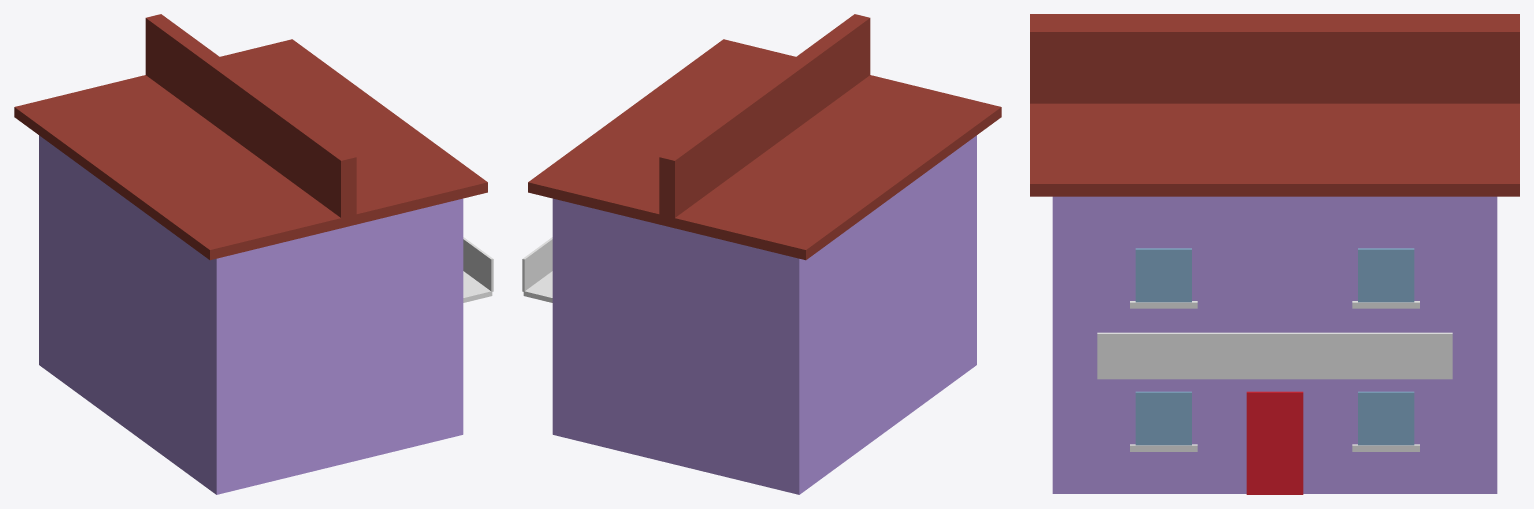
The model's file is casa_playa_5.obj.
The picture shows the model from 3 angles, left to right: view 1: azimuth 30°, elevation 25°; view 2: azimuth 150°, elevation 25°; view 3: azimuth 270°, elevation 25°; orthographic projection. The views are drawn at different scales.
Parts seen in each view (by area): view 1: casa_playa_5; view 2: casa_playa_5; view 3: casa_playa_5.
Boxes of the visible parts, left/top/right/bottom form: casa_playa_5: left=14, top=14, right=493, bottom=494; casa_playa_5: left=522, top=14, right=1001, bottom=494; casa_playa_5: left=1030, top=14, right=1519, bottom=494.
Bounding box in the file's own units: 7.95 × 7.65 × 8.68.
